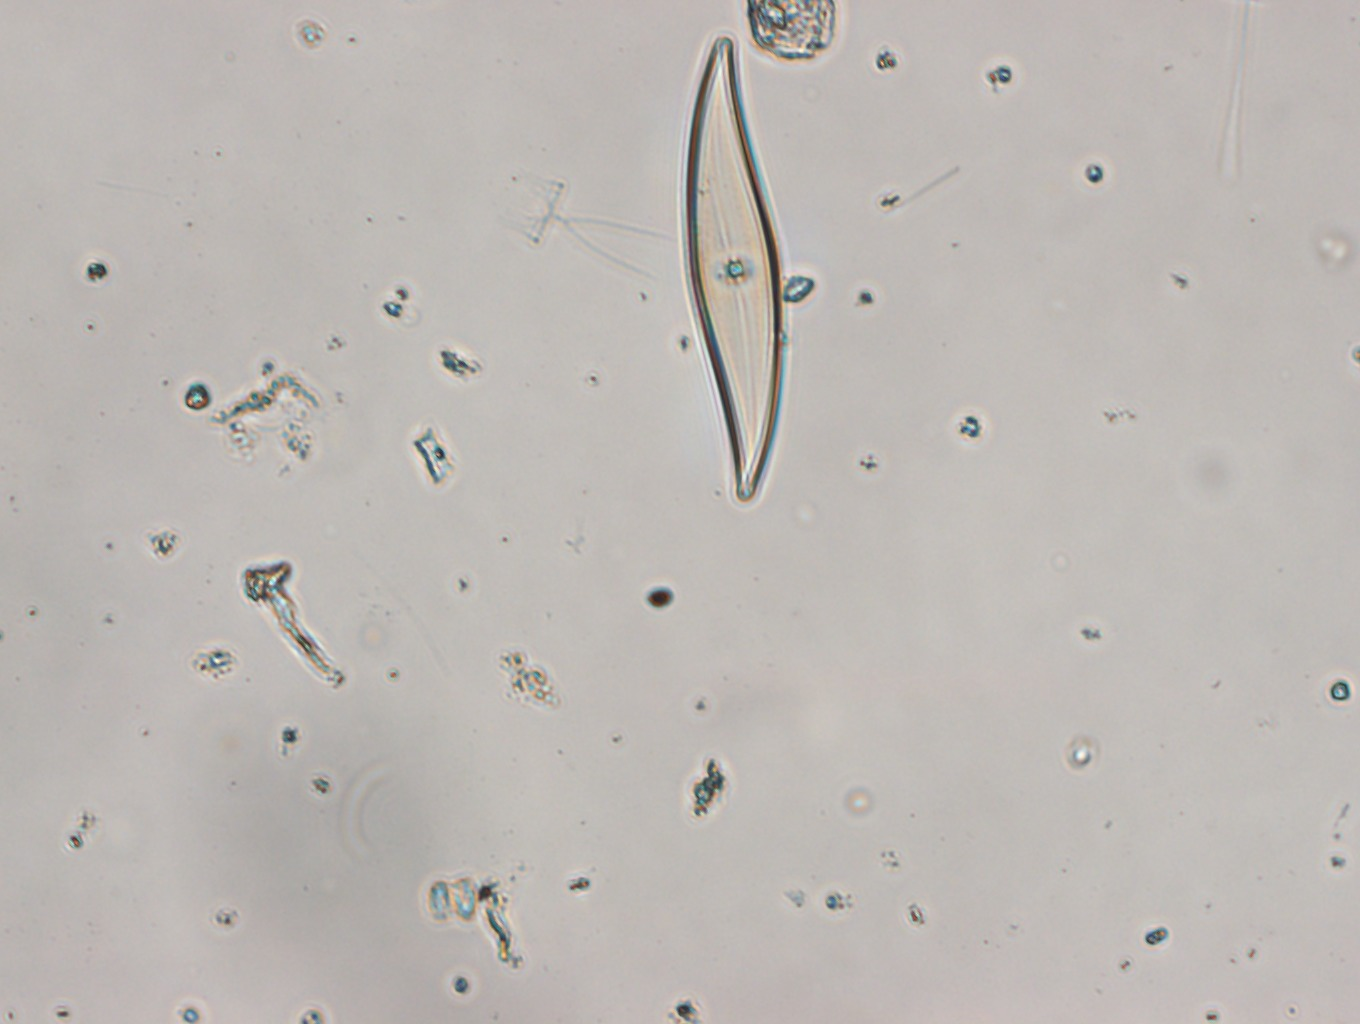pleurosigma pelagicum: (669, 27, 813, 515)
